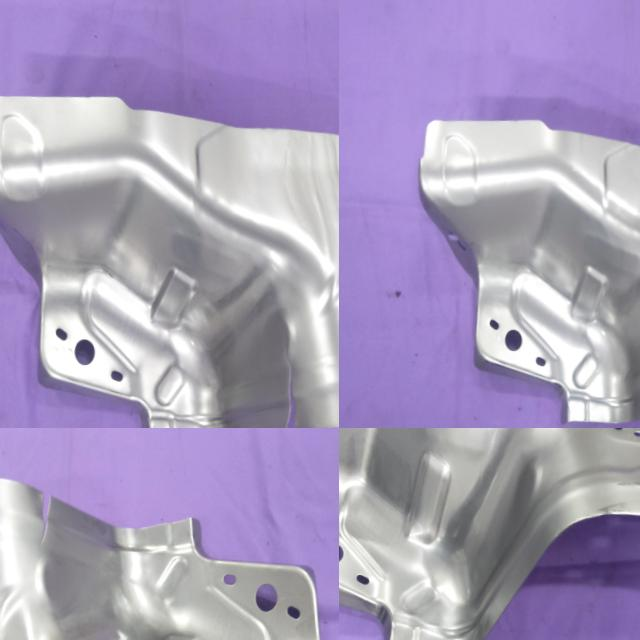Defect: (269, 339, 315, 428), (28, 482, 66, 550)
Healthy: (413, 87, 640, 428)
rust: (555, 496, 640, 526)
